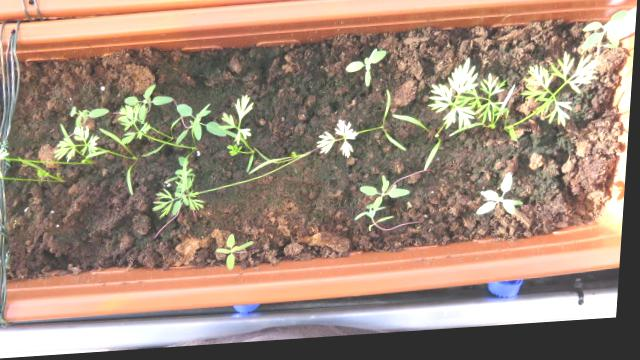weed: (474, 174, 532, 225), (208, 231, 261, 277)
